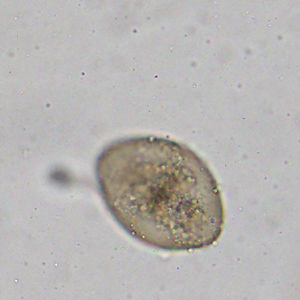Fasciola_hepatica_egg: (94, 133, 225, 253)
